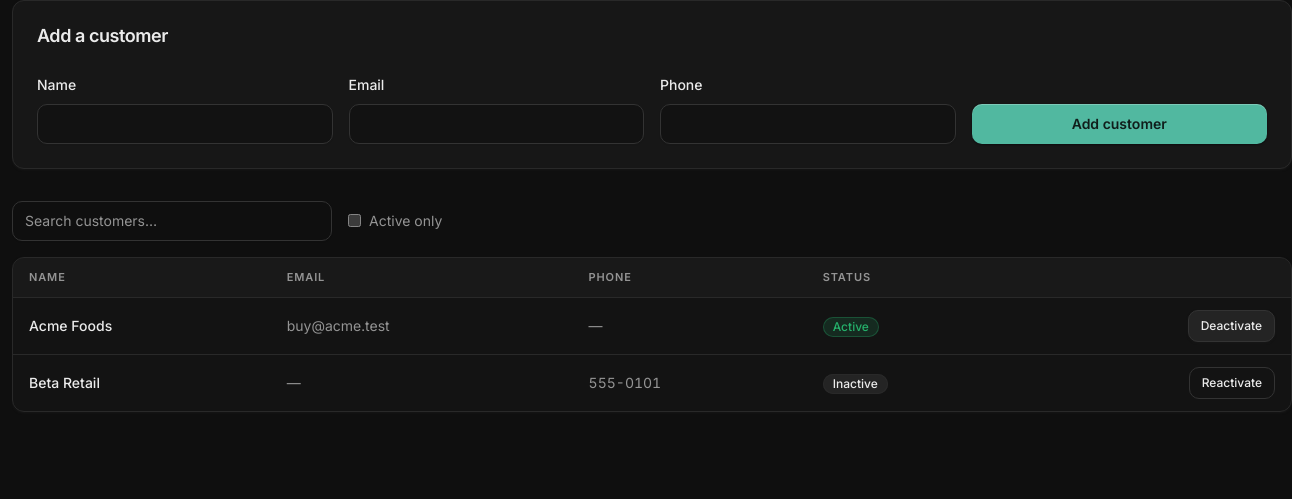
Test: CustomersPanel › deactivates an active customer and reports a failed reactivation
Expected: the text "Acme Foods" is shown, [13, 298, 271, 354]
Click the button "Deactivate" at {"x": 1231, "y": 326}, box [1188, 310, 1275, 342]
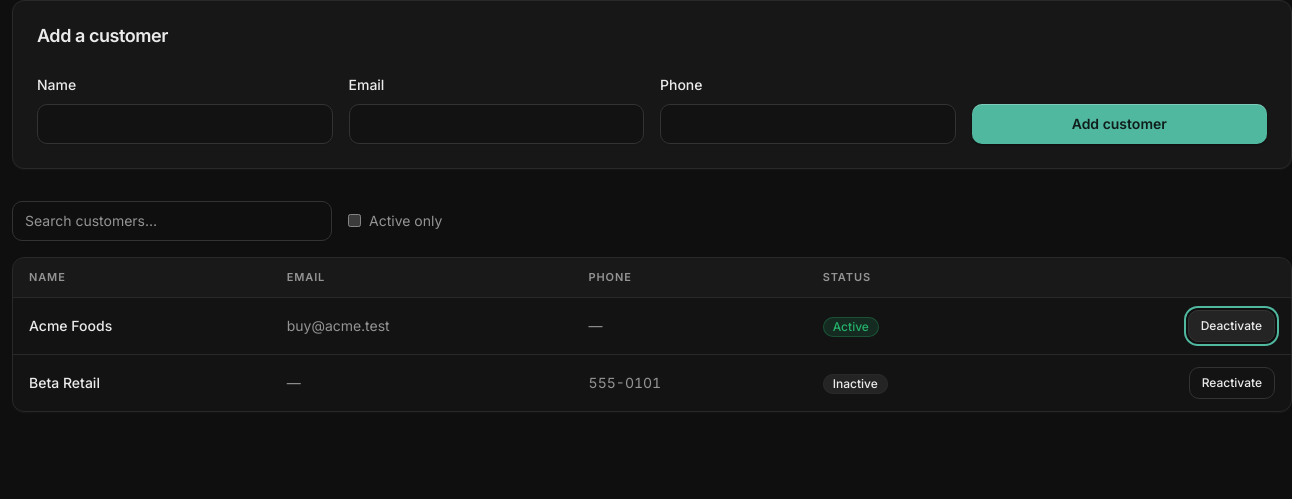
Click the button "Reactivate" at {"x": 1232, "y": 383}, box [1189, 367, 1275, 399]
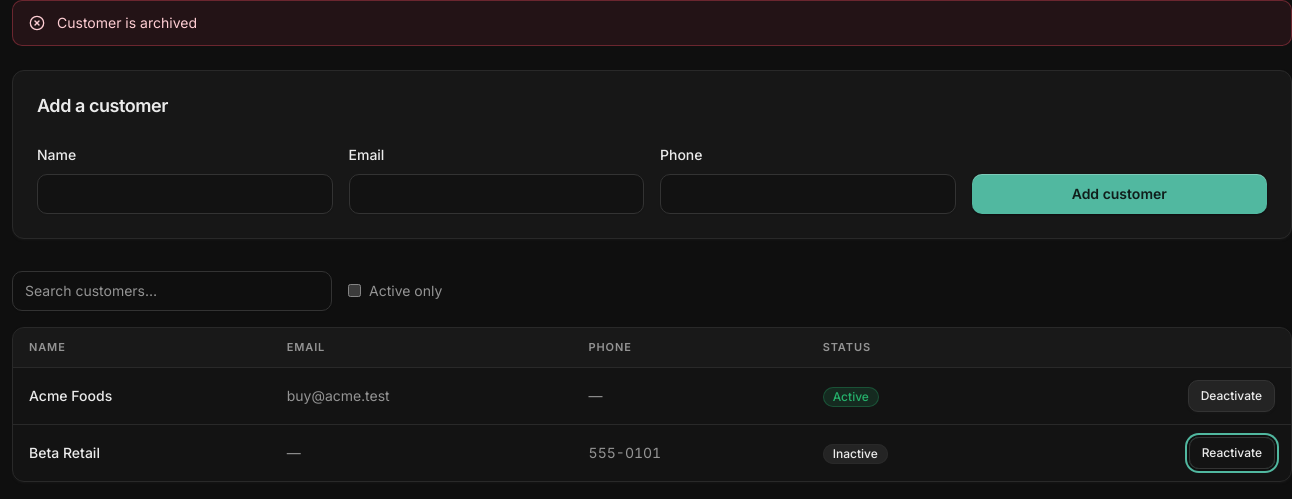
Result: the text "Customer is archived" is shown at [57, 13, 197, 33]
